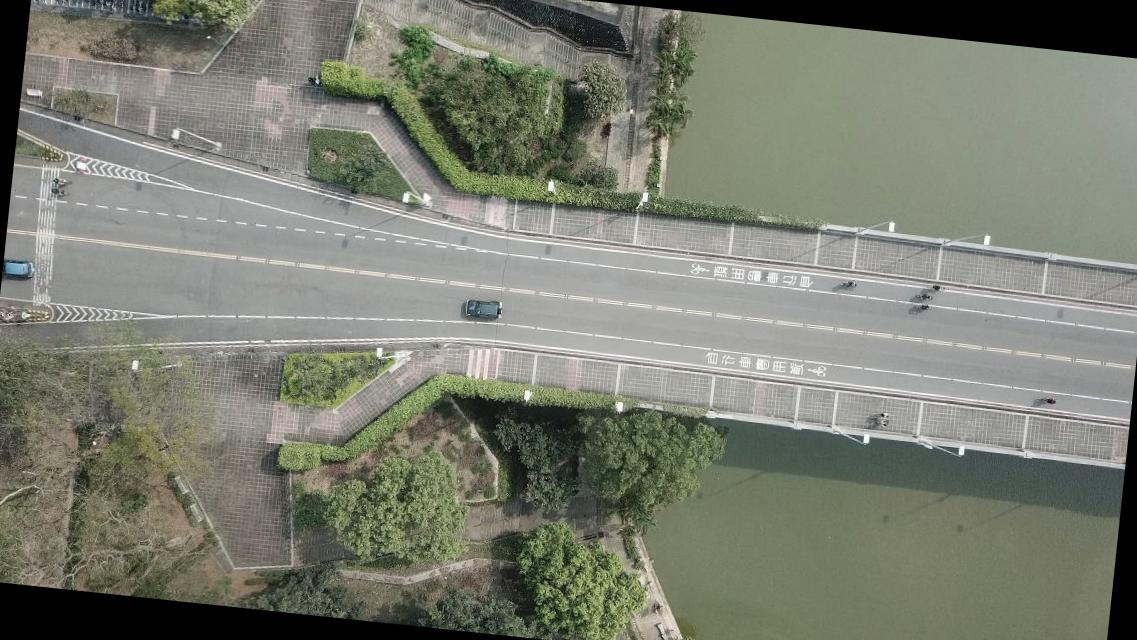vehicle: (462, 298, 502, 321), (3, 256, 34, 278)
